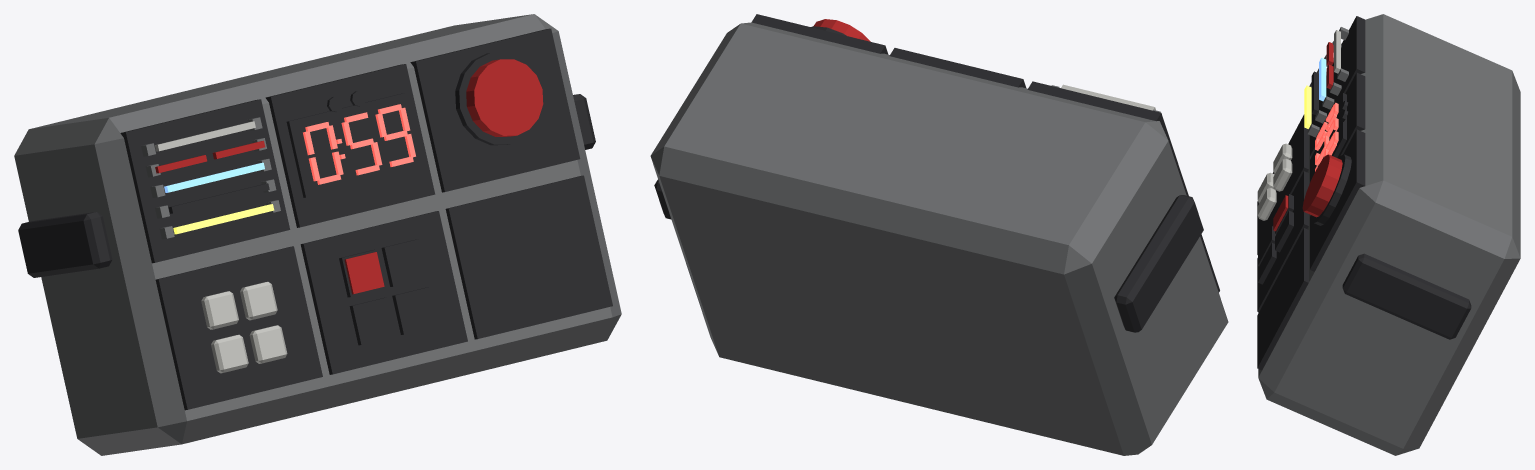
File: puzzle-roulette.glb
The picture shows the model from 3 angles, left to right: view 1: azimuth 30°, elevation 25°; view 2: azimuth 150°, elevation 25°; view 3: azimuth 270°, elevation 25°; orthographic projection. The views are drawn at different scales.
Parts seen in each view (by area): view 1: bomb_case, bomb_timer_panel, bomb_button, bomb_button_ring, bomb_pad_2, bomb_pad_3, bomb_pad_1, bomb_pad_light_0, bomb_key_-0.13_0.01, bomb_key_-0.17_0.01, bomb_key_-0.13_0.05, bomb_key_-0.17_0.05 (+4 smaller); view 2: bomb_case; view 3: bomb_case, bomb_button, bomb_button_ring, bomb_timer_panel, bomb_key_-0.13_0.05, bomb_key_-0.13_0.01, bomb_pad_1, bomb_pad_3, bomb_wire_3, bomb_wire_2, bomb_wire_4, bomb_key_-0.17_0.05 (+3 smaller).
Boxes of the visible parts, box(x1,y1,x2,y2) form: bomb_case: box(14, 14, 621, 455); bomb_timer_panel: box(286, 93, 421, 197); bomb_button: box(466, 59, 543, 136); bomb_button_ring: box(455, 52, 537, 145); bomb_pad_2: box(349, 297, 395, 345); bomb_pad_3: box(392, 287, 438, 334); bomb_pad_1: box(381, 239, 427, 286); bomb_pad_light_0: box(344, 252, 384, 294); bomb_key_-0.13_0.01: box(249, 325, 287, 363); bomb_key_-0.17_0.01: box(211, 334, 248, 373); bomb_key_-0.13_0.05: box(240, 281, 277, 320); bomb_key_-0.17_0.05: box(201, 291, 238, 329); bomb_case: box(650, 14, 1228, 455); bomb_case: box(1257, 14, 1520, 455); bomb_button: box(1302, 154, 1342, 217); bomb_button_ring: box(1312, 154, 1351, 225); bomb_timer_panel: box(1315, 93, 1346, 167); bomb_key_-0.13_0.05: box(1273, 158, 1292, 191); bomb_key_-0.13_0.01: box(1257, 188, 1276, 220); bomb_pad_1: box(1275, 210, 1293, 252); bomb_pad_3: box(1258, 243, 1276, 284); bomb_wire_3: box(1311, 71, 1318, 115); bomb_wire_2: box(1319, 57, 1326, 101); bomb_wire_4: box(1304, 85, 1311, 128); bomb_key_-0.17_0.05: box(1273, 143, 1292, 174).
Size of the model in its own units: 0.52 by 0.3397 by 0.2942.
